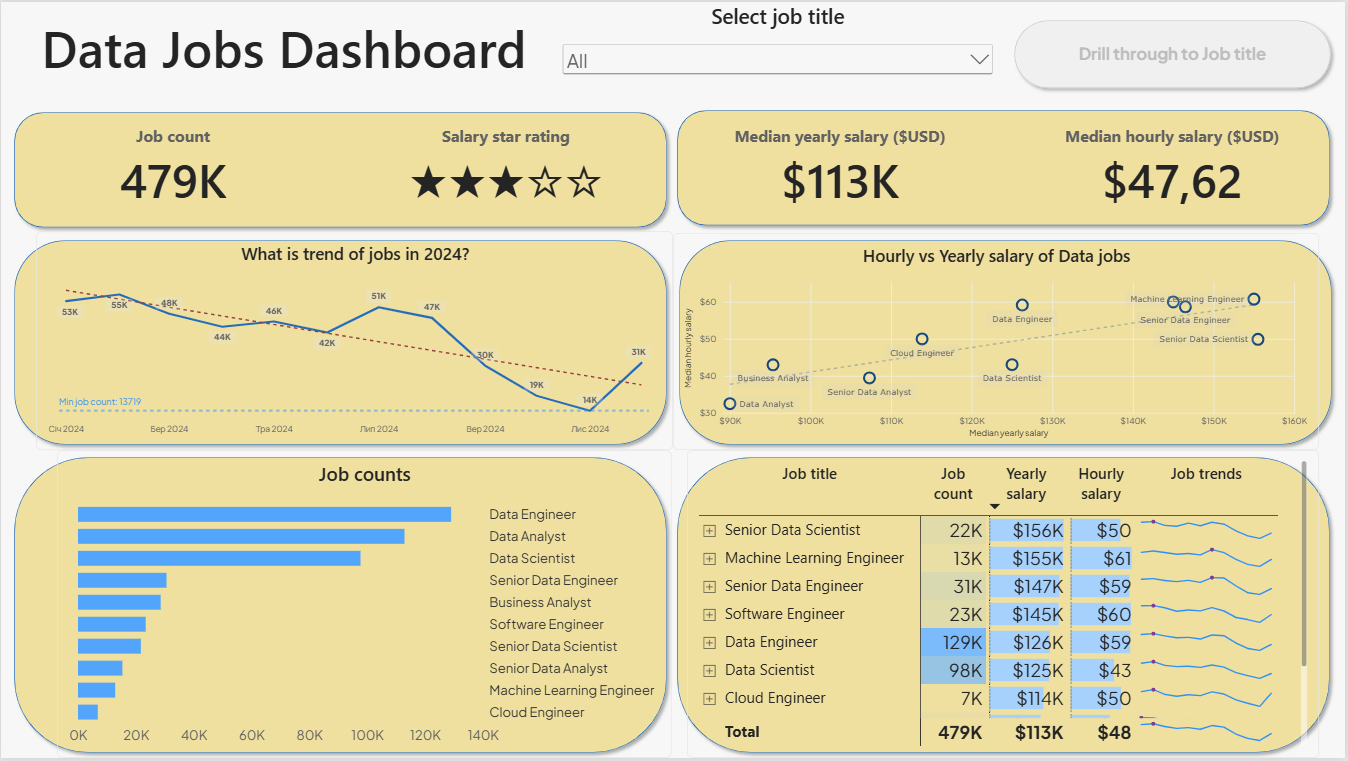

The dashboard page shown, as its layout file describes it:
{"tool":"powerbi","page":{"name":"Data Jobs Dashboard","canvas":[1920,1080],"ordinal":0},"visuals":[{"type":"group","id":"g1","title":"Background","box":[10,145,1900,935],"z":0},{"type":"shape","box":[10,147.5,950,182.5],"z":0,"group":"g1"},{"type":"textbox","box":[12,16,786,132],"z":1000},{"type":"shape","box":[957.5,145,950,182.5],"z":1000,"group":"g1"},{"type":"slicer","title":"Select job title","fields":{"Values":["job_postings_flat.job_title_short"]},"box":[797.5,0,625,147.5],"z":2000},{"type":"shape","box":[10,330,950,310],"z":2000,"group":"g1"},{"type":"cardVisual","fields":{"Data":["CountNonNull(job_postings_flat.job_title_short)"]},"box":[10,147.5,472.5,180],"z":3000},{"type":"shape","box":[960,330,950,310],"z":3000,"group":"g1"},{"type":"cardVisual","fields":{"Data":["job_postings_flat.Salary star rating"]},"box":[482.5,147.5,477.5,180],"z":4000},{"type":"shape","box":[10,640,950,440],"z":4000,"group":"g1"},{"type":"cardVisual","fields":{"Data":["Median(job_postings_flat.salary_year_avg)"]},"box":[960,147.5,477.5,180],"z":5000},{"type":"shape","box":[957.5,640,950,440],"z":5000,"group":"g1"},{"type":"cardVisual","fields":{"Data":["Median(job_postings_flat.salary_hour_avg)"]},"box":[1437.5,147.5,472.5,180],"z":6000},{"type":"barChart","title":"Job counts","fields":{"Category":["job_postings_flat.job_title_short"],"Y":["CountNonNull(job_postings_flat.job_title_short)"]},"box":[80,640,877.5,440],"z":7000},{"type":"lineChart","title":"What is trend of jobs in 2024?","fields":{"Category":["job_postings_flat.job_posted_date.Variation.Date Hierarchy.Year","job_postings_flat.job_posted_date.Variation.Date Hierarchy.Quarter","job_postings_flat.job_posted_date.Variation.Date Hierarchy.Month","job_postings_flat.job_posted_date.Variation.Date Hierarchy.Day"],"Y":["CountNonNull(job_postings_flat.job_title_short)"]},"box":[50,327.5,910,312.5],"z":8000},{"type":"scatterChart","title":"Hourly vs Yearly salary of Data jobs","fields":{"Series":["job_postings_flat.job_title_short"],"X":["Median(job_postings_flat.salary_year_avg)"],"Y":["Median(job_postings_flat.salary_hour_avg)"]},"box":[960,330,922.5,310],"z":9000},{"type":"pivotTable","fields":{"Rows":["job_postings_flat.job_title_short","job_postings_flat.job_posted_date.Variation.Date Hierarchy.Quarter"],"Values":["CountNonNull(job_postings_flat.job_title_short)","Median(job_postings_flat.salary_year_avg)","Median(job_postings_flat.salary_hour_avg)","SparklineData(CountNonNull(job_postings_flat.job_title_short)_[job_postings_flat.job_posted_date.Variation.Date Hierarch"]},"box":[980,640,902.5,440],"z":10000},{"type":"actionButton","box":[1438.3,16.7,470,115],"z":10001}]}

Visuals, with their boxes in screenshot pixels (x1, y1, x2, y2), scaled from the page's 1920x1080 canvas onto the 1348x761 screenshot:
"Background" group: <box>7,102,1341,760</box>
shape: <box>7,104,674,233</box>
textbox: <box>8,11,560,104</box>
shape: <box>672,102,1339,231</box>
"Select job title" slicer: <box>560,0,999,104</box>
shape: <box>7,233,674,451</box>
cardVisual - CountNonNull(job_postings_flat.job_title_short): <box>7,104,339,231</box>
shape: <box>674,233,1341,451</box>
cardVisual - job_postings_flat.Salary star rating: <box>339,104,674,231</box>
shape: <box>7,451,674,760</box>
cardVisual - Median(job_postings_flat.salary_year_avg): <box>674,104,1009,231</box>
shape: <box>672,451,1339,760</box>
cardVisual - Median(job_postings_flat.salary_hour_avg): <box>1009,104,1341,231</box>
"Job counts" barChart: <box>56,451,672,760</box>
"What is trend of jobs in 2024?" lineChart: <box>35,231,674,451</box>
"Hourly vs Yearly salary of Data jobs" scatterChart: <box>674,233,1322,451</box>
pivotTable - job_postings_flat.job_title_short x job_postings_flat.job_posted_date.Variation.Date Hierarchy.Quarter: <box>688,451,1322,760</box>
actionButton: <box>1010,12,1340,93</box>
